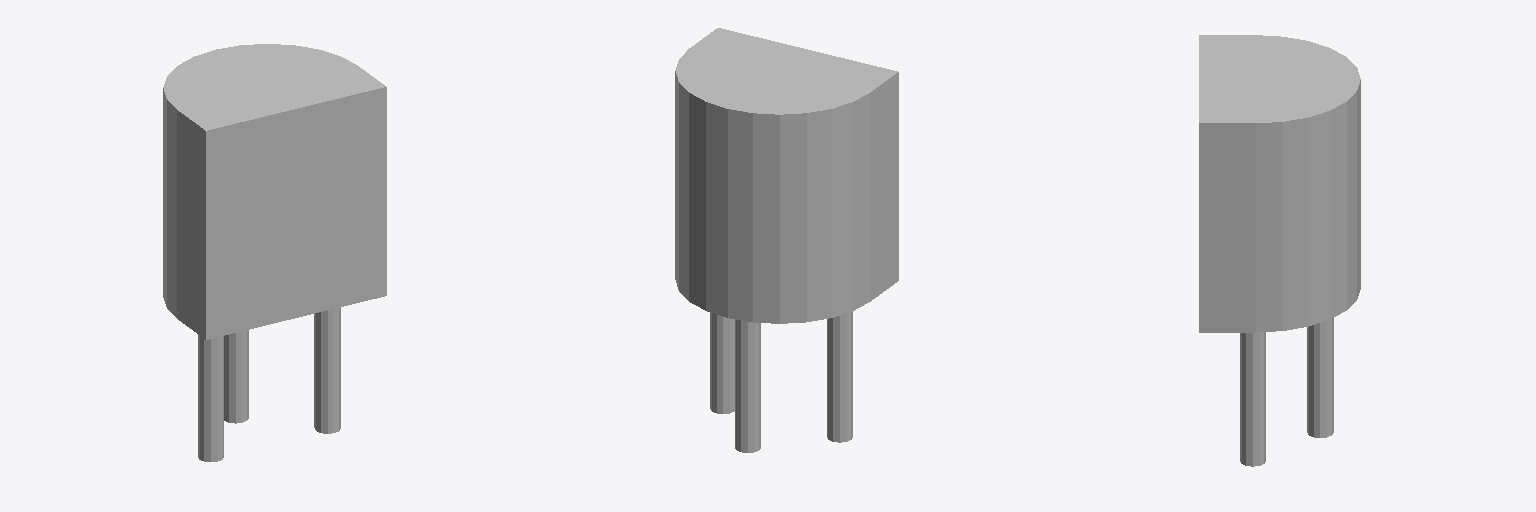
The model's file is halfcube.obj.
3 renders of one model, left to right at view 1: azimuth 30°, elevation 25°; view 2: azimuth 150°, elevation 25°; view 3: azimuth 270°, elevation 25°, orthographic.
Parts seen in each view (by area): view 1: Object.1; view 2: Object.1; view 3: Object.1.
Boxes of the visible parts, x1,y1,x2,y2 form: Object.1: [163, 44, 386, 461]; Object.1: [675, 28, 898, 452]; Object.1: [1199, 35, 1360, 466].
Size of the model in its own units: 7.87 by 14.7 by 6.09.